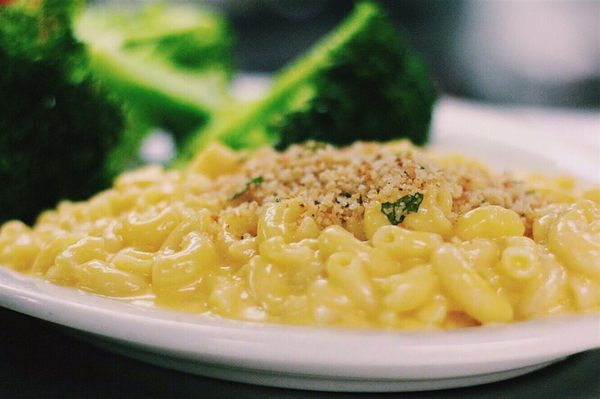curry: (0, 3, 473, 221), (0, 3, 247, 227), (218, 5, 441, 155), (380, 192, 424, 224)
sushi: (0, 0, 597, 384)
